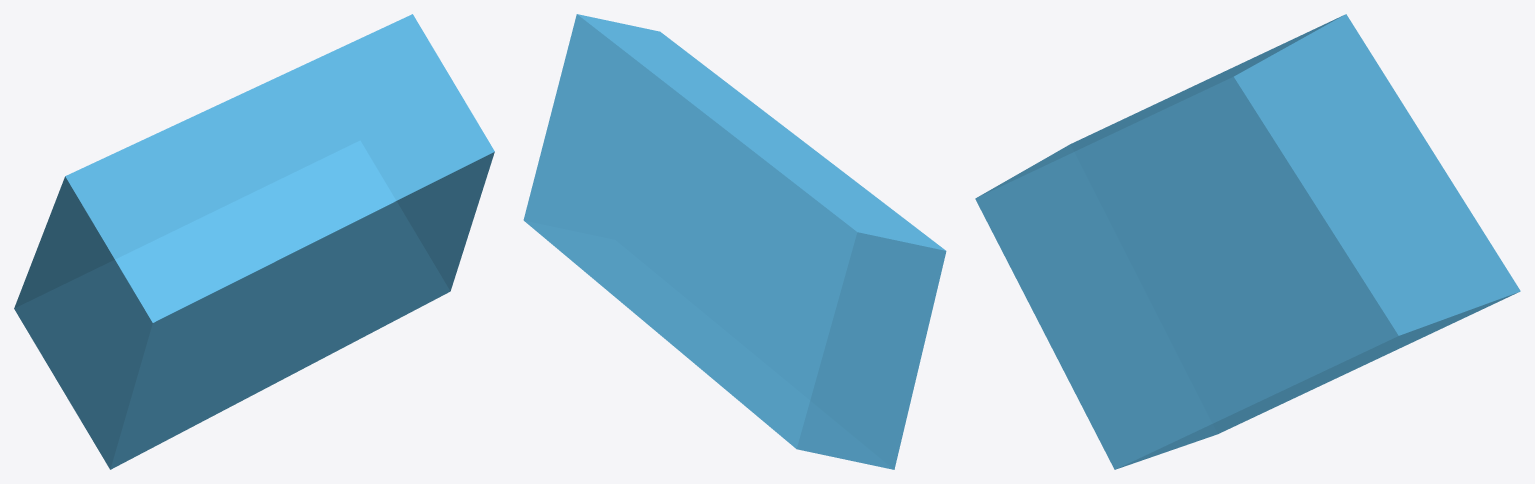
The model's file is Event_420107950_HErechit_44.fbx.
3 renders of one model, left to right at view 1: azimuth 30°, elevation 25°; view 2: azimuth 150°, elevation 25°; view 3: azimuth 270°, elevation 25°, orthographic. The views are drawn at different scales.
Visible parts, largest first — view 1: Model; view 2: Model; view 3: Model.
Part boxes in pixels (x1=…): Model: x1=14, y1=14, x2=494, y2=469; Model: x1=523, y1=14, x2=946, y2=469; Model: x1=975, y1=14, x2=1520, y2=469.
Bounding box in the file's own units: 0.747 × 0.8636 × 0.7193.
